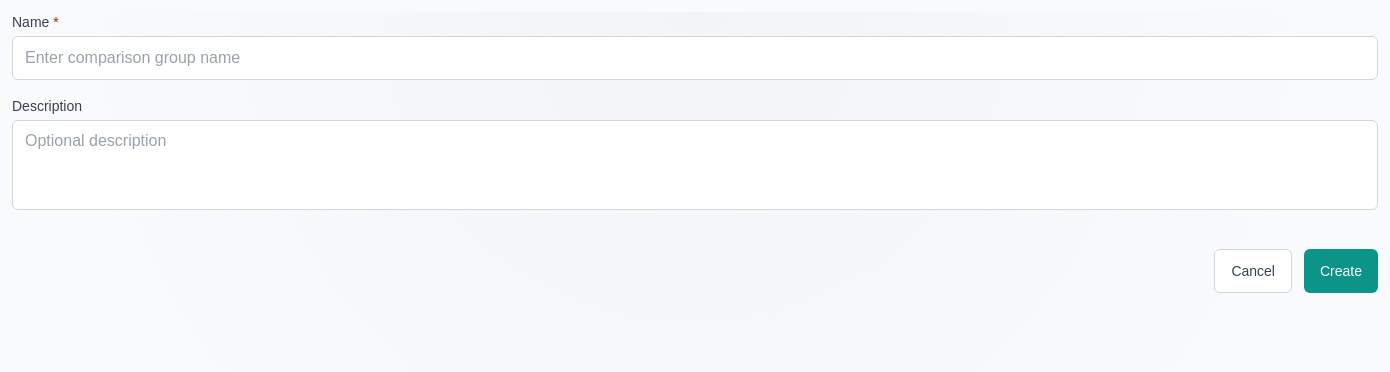
ComparisonForm › error handling › should display generic error for non-Error exceptions
Type "Test" into the field labelled "Name *".
click(695, 58); type("Test")  # box [12,36,1378,80]
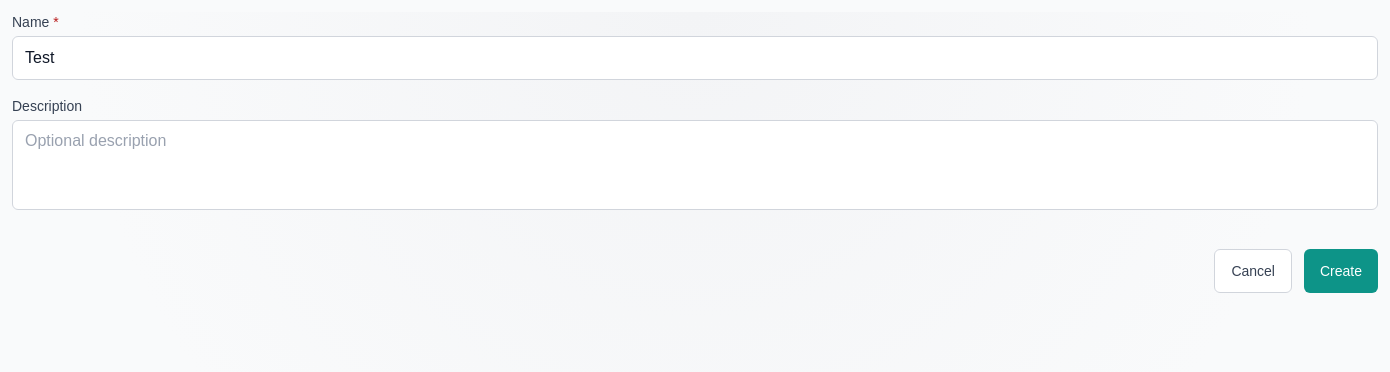
Submit the form "Create"
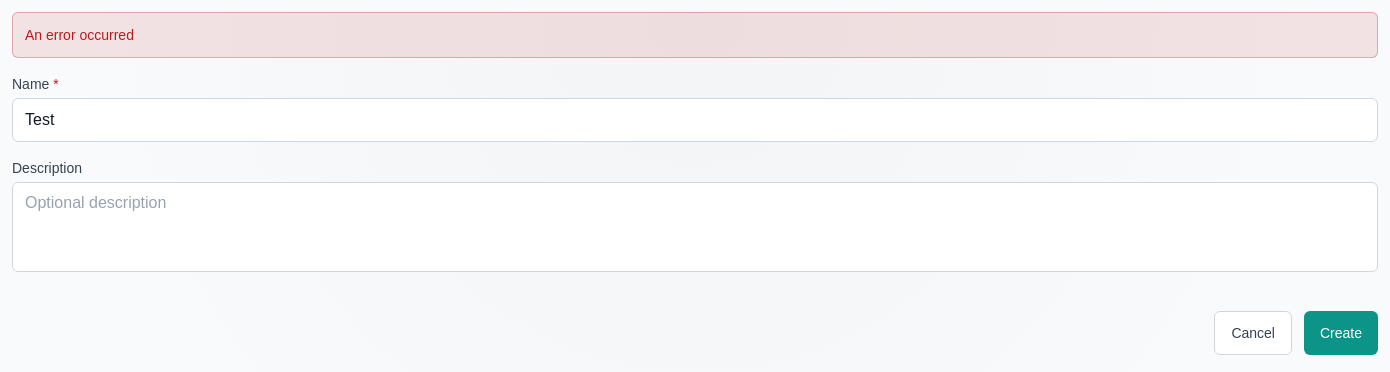
Result: the text "An error occurred" is shown at [25,27,134,43]
